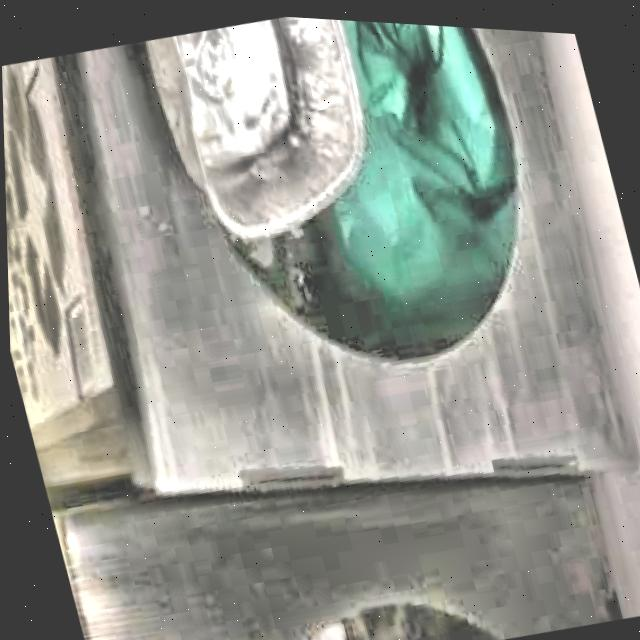metal: (144, 13, 362, 238)
